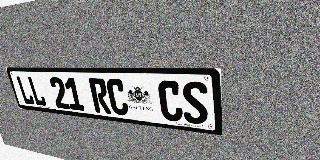1: (62, 77, 85, 111)
2: (48, 77, 70, 109)
C: (157, 80, 183, 122), (105, 79, 130, 116)
L: (27, 76, 47, 107), (15, 76, 35, 105)
R: (88, 78, 112, 114)
S: (181, 81, 208, 125)
